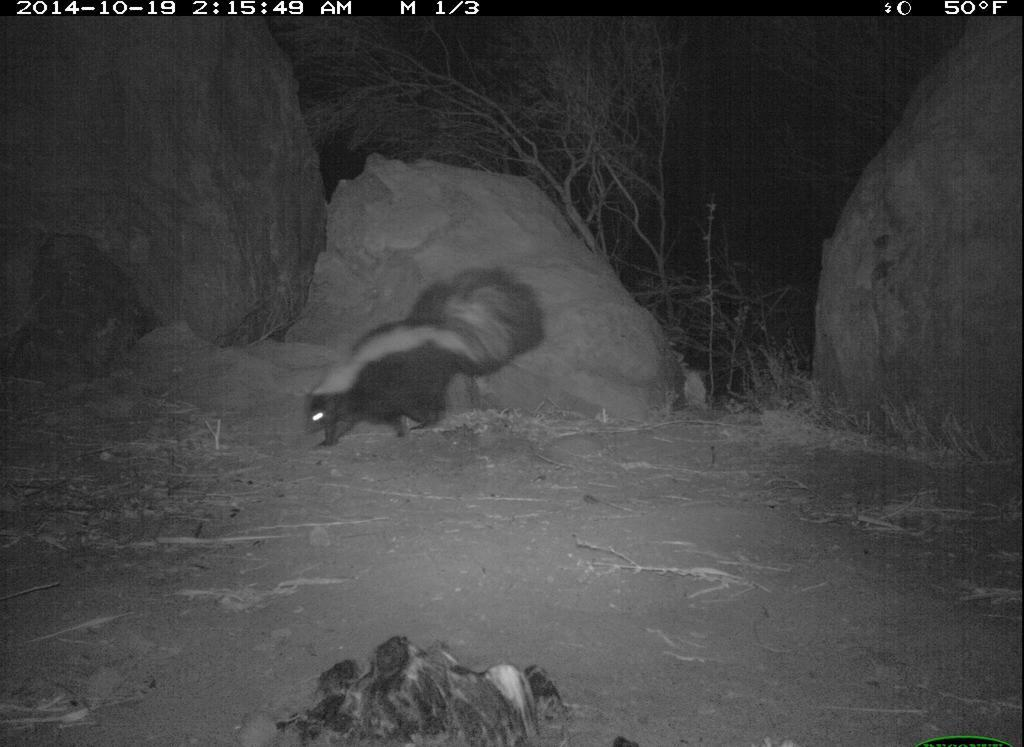skunk: (283, 271, 555, 465)
